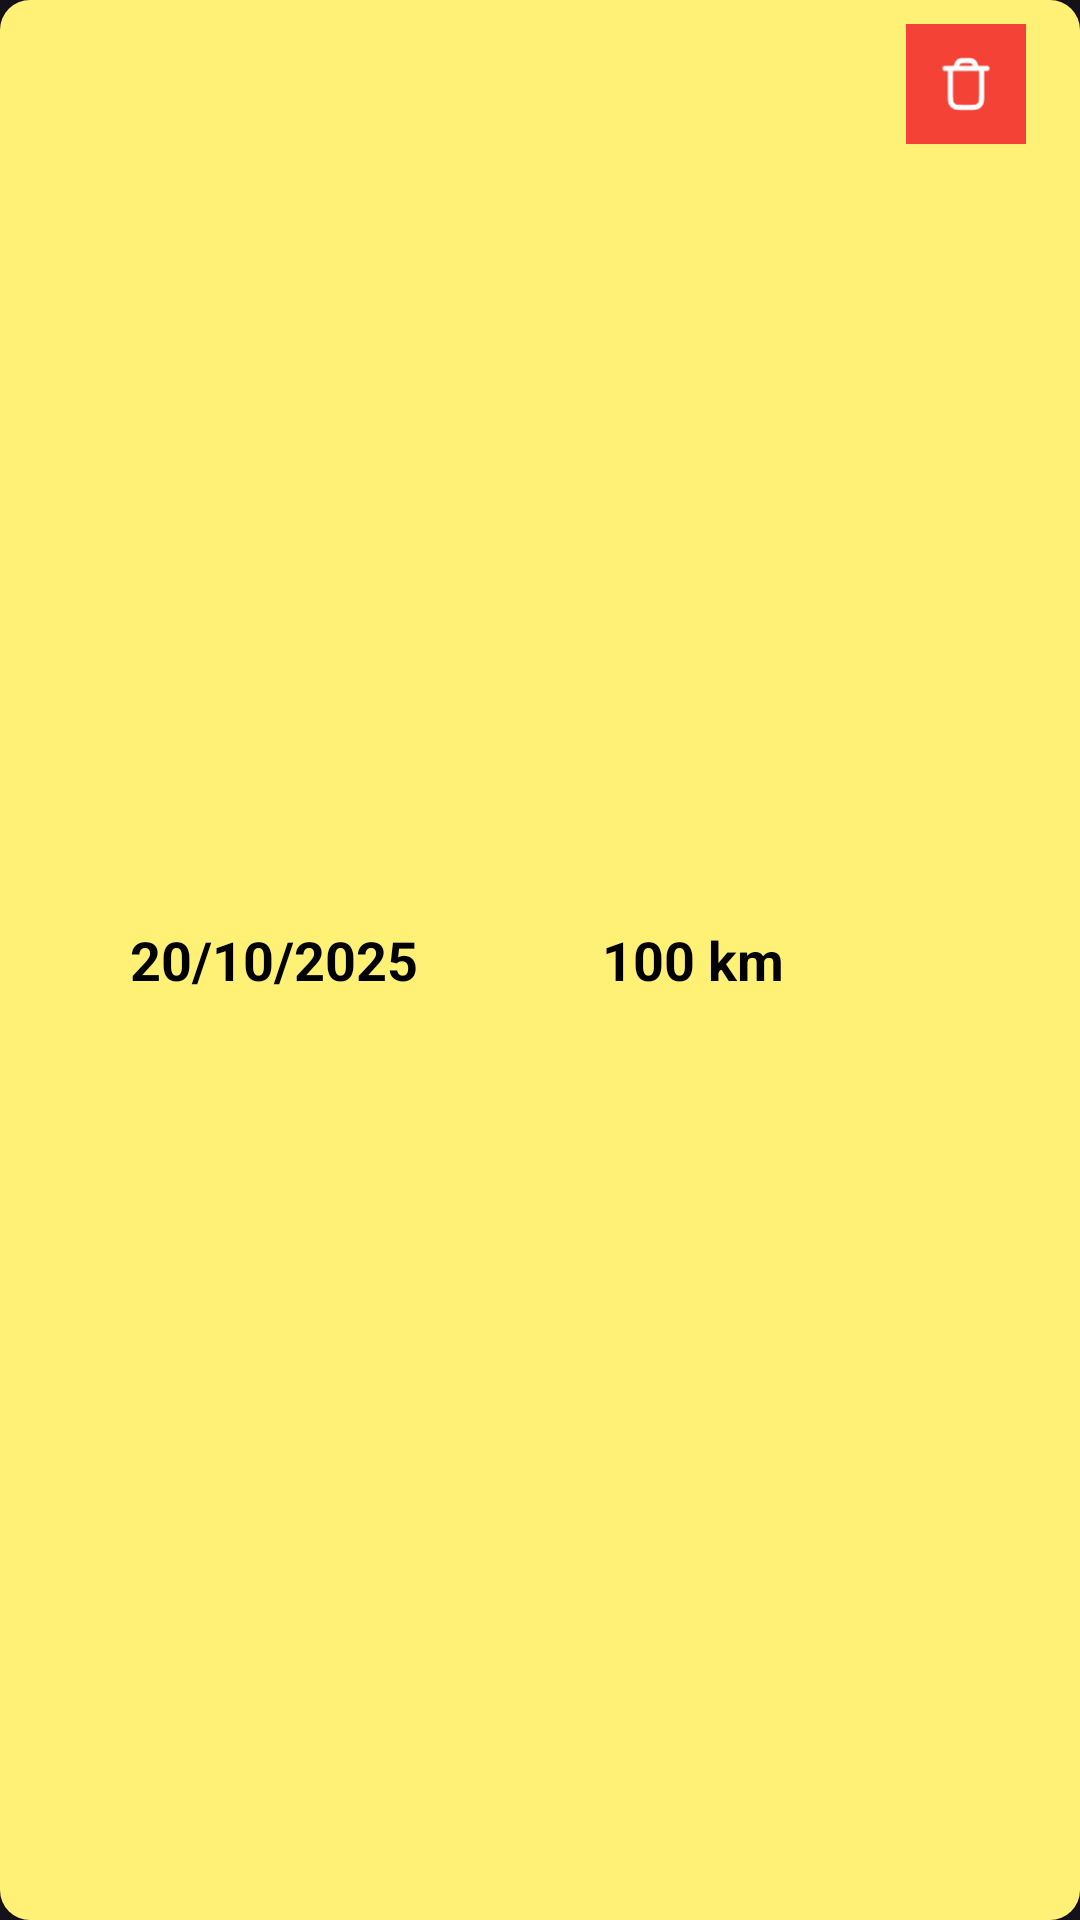

Point at icon controls on the screen. Image size 1080×1920, points as point (x, y).
trash: point (966, 84)
